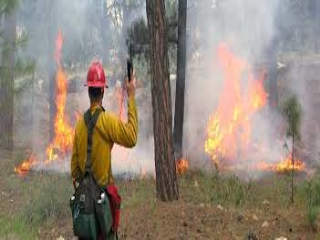fire: (198, 43, 300, 184), (23, 27, 80, 169)
